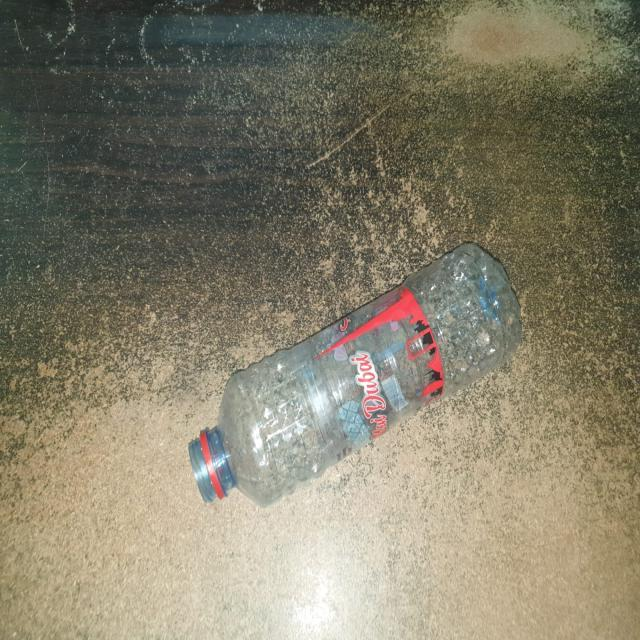chai: (190, 244, 521, 505)
